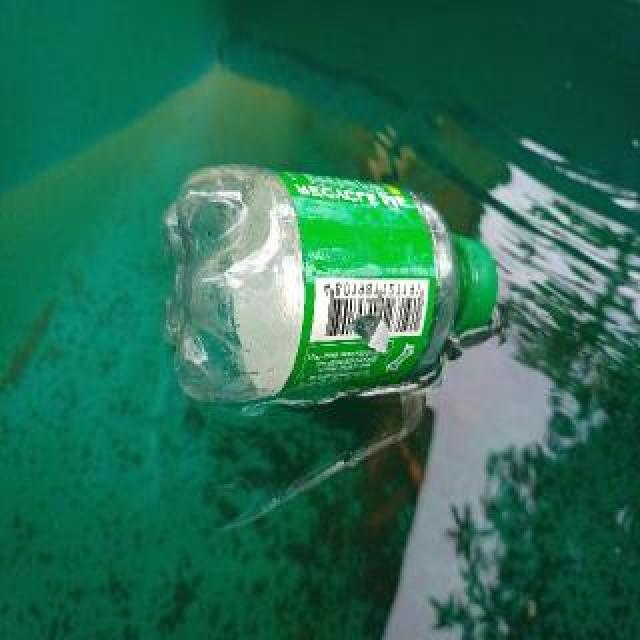Bottle: (160, 163, 496, 409)
